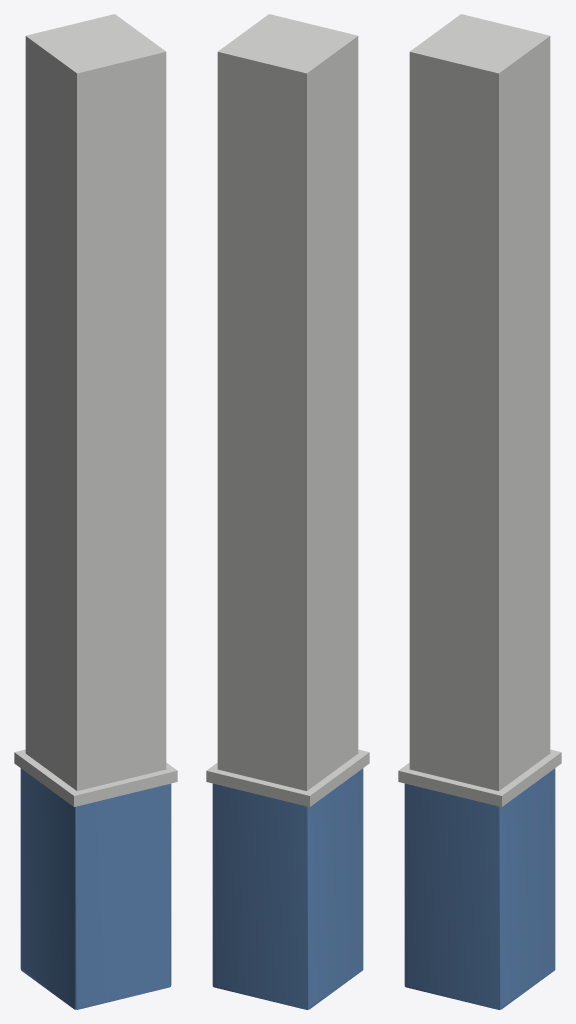
Rendered from canopy_column.glb.
The picture shows the model from 3 angles, left to right: view 1: azimuth 30°, elevation 25°; view 2: azimuth 150°, elevation 25°; view 3: azimuth 330°, elevation 25°; orthographic projection.
Visible parts, largest first — view 1: canopy_column_trim, canopy_column_band; view 2: canopy_column_trim, canopy_column_band; view 3: canopy_column_trim, canopy_column_band.
Part boxes in pixels (bbox=[...]): canopy_column_trim: bbox=[14, 14, 177, 806]; canopy_column_band: bbox=[20, 768, 171, 1009]; canopy_column_trim: bbox=[206, 14, 369, 806]; canopy_column_band: bbox=[212, 768, 363, 1009]; canopy_column_trim: bbox=[398, 14, 561, 806]; canopy_column_band: bbox=[404, 768, 555, 1009].
Bounding box in the file's own units: 0.58 × 5 × 0.58.
